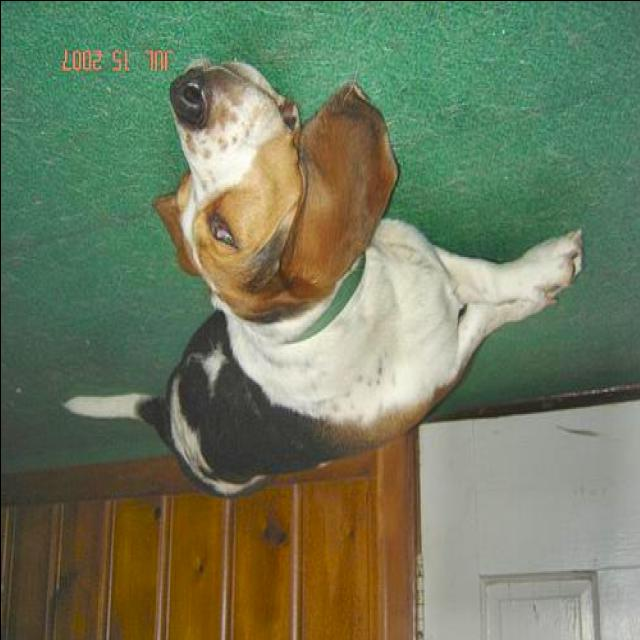basset: (58, 58, 588, 497)
